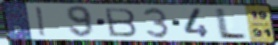3: (142, 6, 170, 40)
4: (182, 6, 214, 40)
9: (65, 4, 96, 40)
B: (103, 7, 140, 38)
I: (33, 5, 49, 37)
L: (215, 7, 250, 40)
